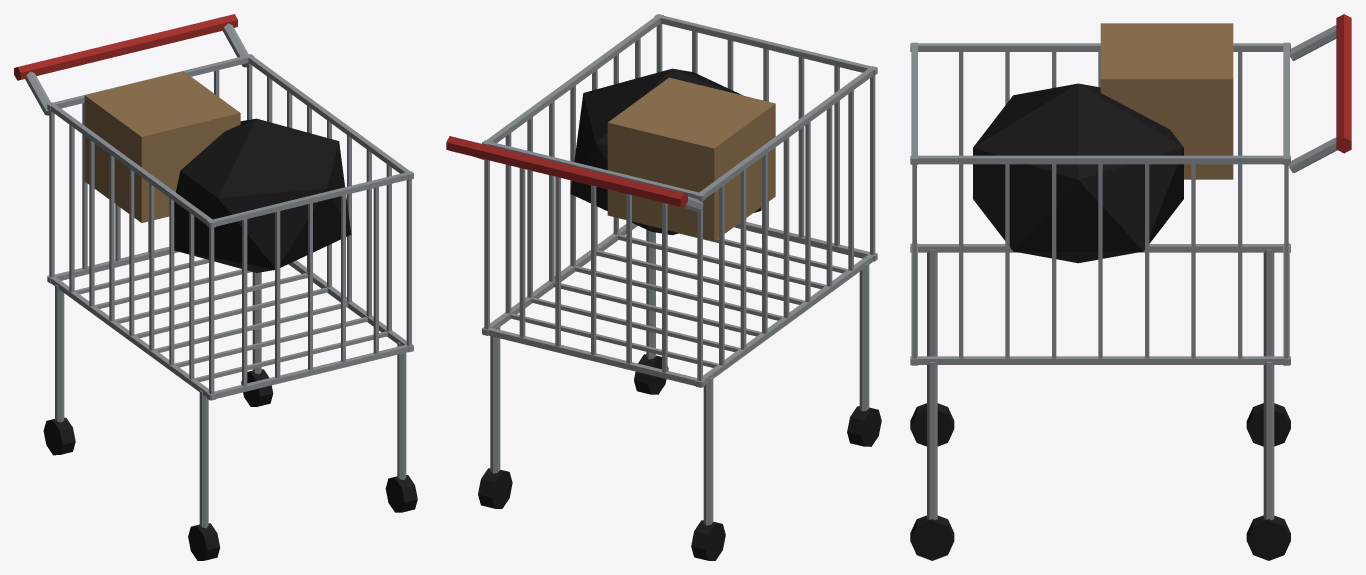
File: shopping_cart.glb
3 renders of one model, left to right at view 1: azimuth 30°, elevation 25°; view 2: azimuth 150°, elevation 25°; view 3: azimuth 270°, elevation 25°, orthographic. The views are drawn at different scales.
Visible parts, largest first — view 1: shopping_cart; view 2: shopping_cart; view 3: shopping_cart.
Part boxes in pixels (x1,y1,x2,y2): shopping_cart: [14, 14, 417, 560]; shopping_cart: [446, 14, 881, 560]; shopping_cart: [910, 14, 1351, 560].
Size of what is drawn, in the model's own units: 0.66 by 1.07 by 0.9973.
